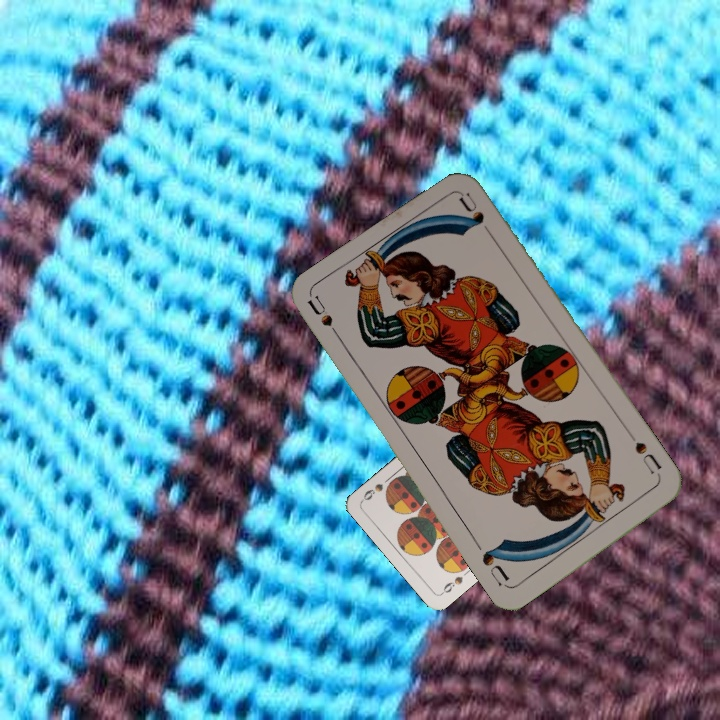S9: (437, 572, 465, 597)
SU: (304, 293, 347, 347), (625, 430, 664, 482)
